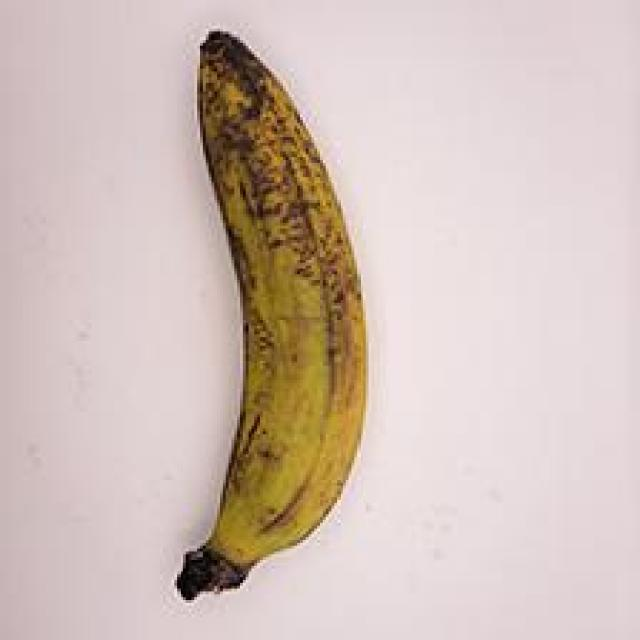Overripe: (140, 8, 390, 614)
